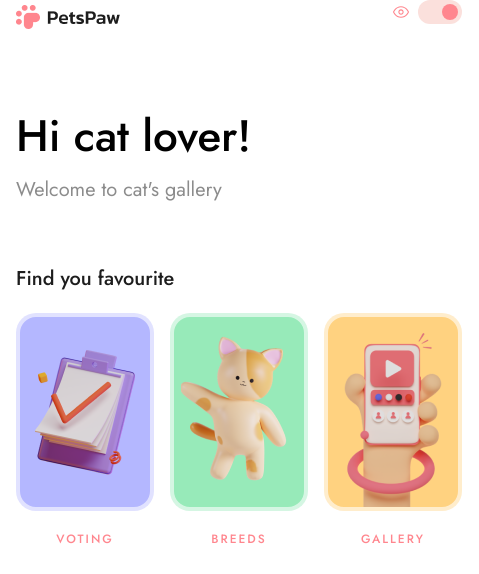
Test: MenuPage › theme should change after click theme-change-btn
Step 1. Click the button with test id "change-theme" → (450, 12), box [442,4,458,20]
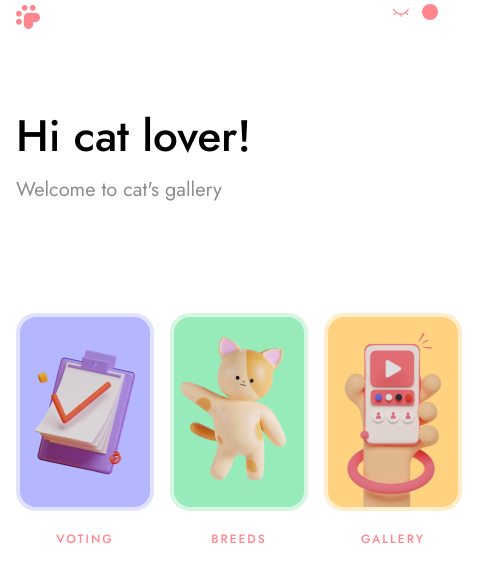
Now the element with test id "menu-page-black" is shown
